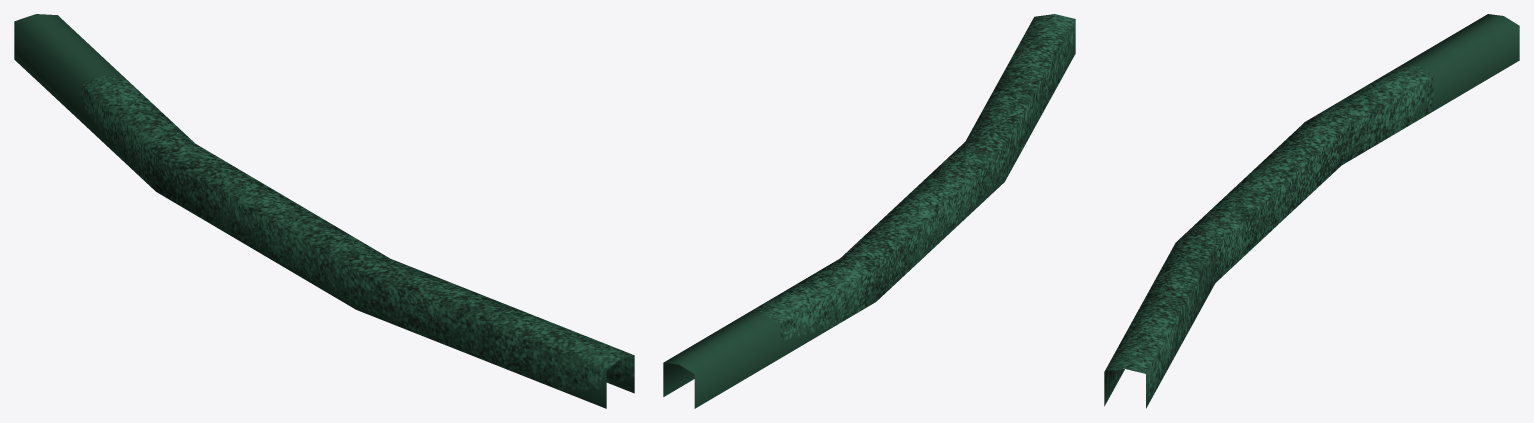
Rendered from waall.fbx.
3 views of the same model, side by side, from view 1: azimuth 30°, elevation 25°; view 2: azimuth 150°, elevation 25°; view 3: azimuth 330°, elevation 25° (orthographic). The views are drawn at different scales.
Parts seen in each view (by area): view 1: Circle.002; view 2: Circle.002; view 3: Circle.002.
Part boxes in pixels (x1,y1,x2,y2): Circle.002: (14, 14, 634, 408); Circle.002: (663, 14, 1075, 408); Circle.002: (1104, 14, 1519, 408).
Size of the model in its own units: 1499 by 400 by 8636.
